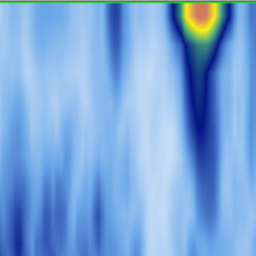defect: (168, 2, 234, 212), (5, 188, 27, 256), (107, 1, 121, 55)
